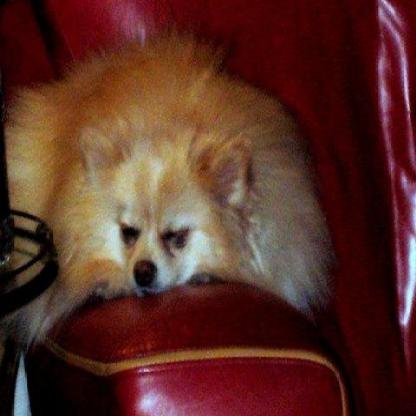Pomeranian: (2, 29, 335, 312)
